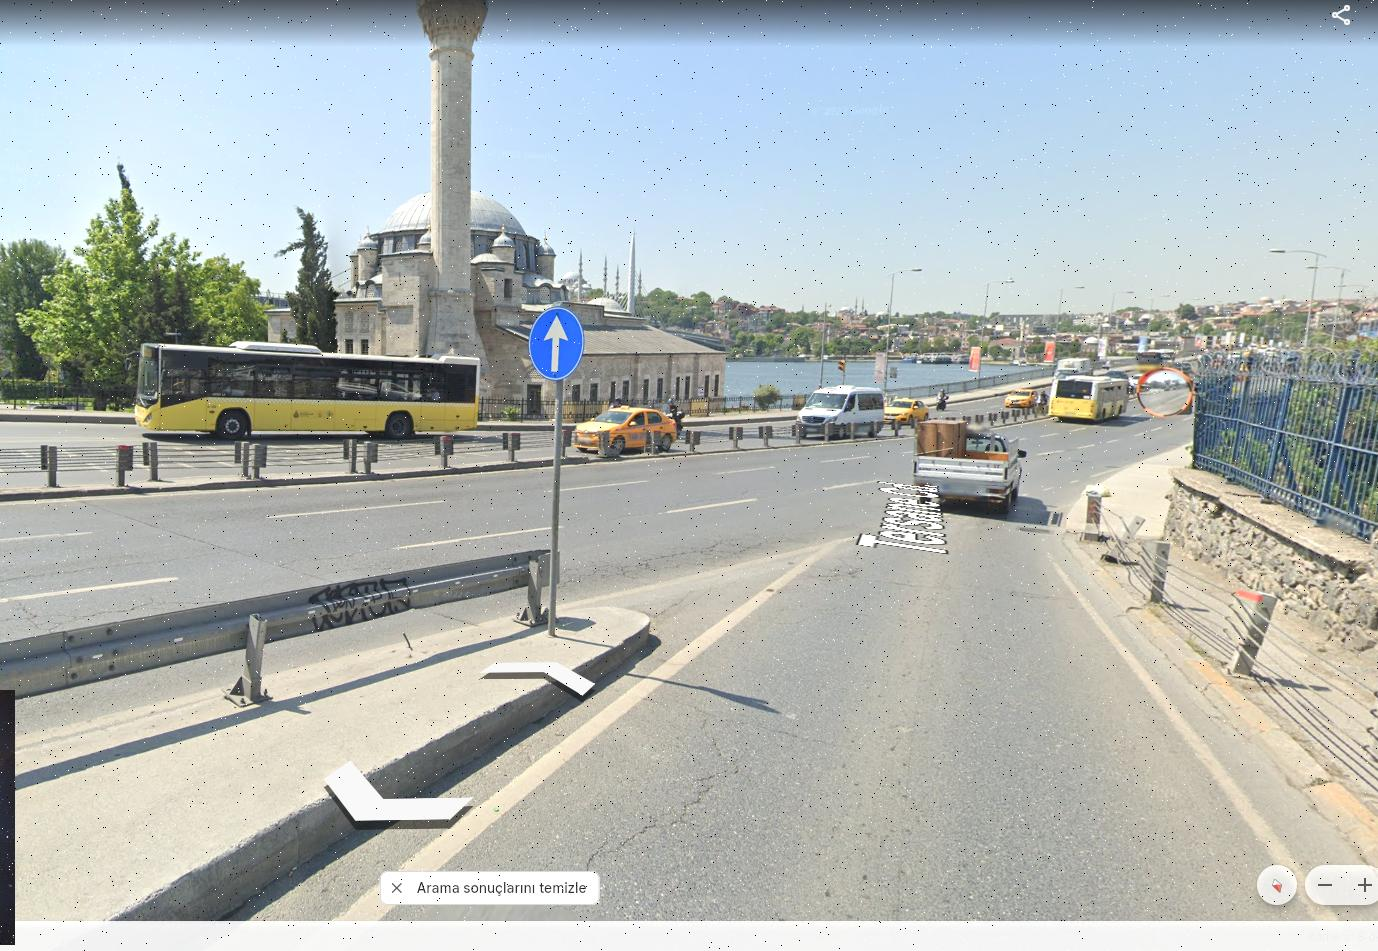forward: (530, 307, 586, 381)
